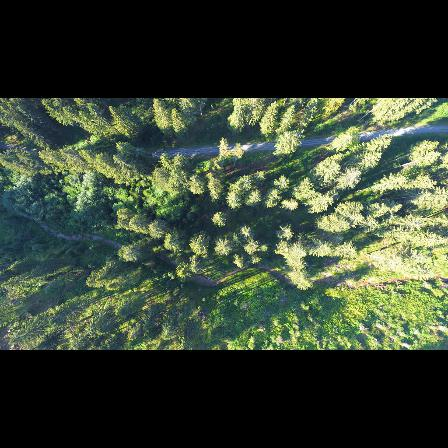Sick: (242, 174, 254, 187)
